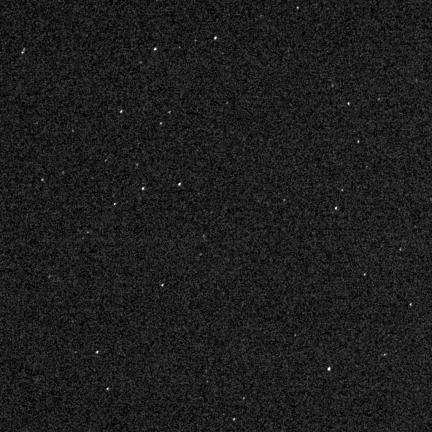blob: (142, 187, 146, 191), (363, 273, 367, 277), (178, 183, 182, 187), (214, 37, 218, 41), (154, 48, 157, 52), (410, 303, 413, 307), (328, 368, 331, 372), (348, 103, 351, 106), (96, 351, 99, 354), (335, 207, 337, 210)
